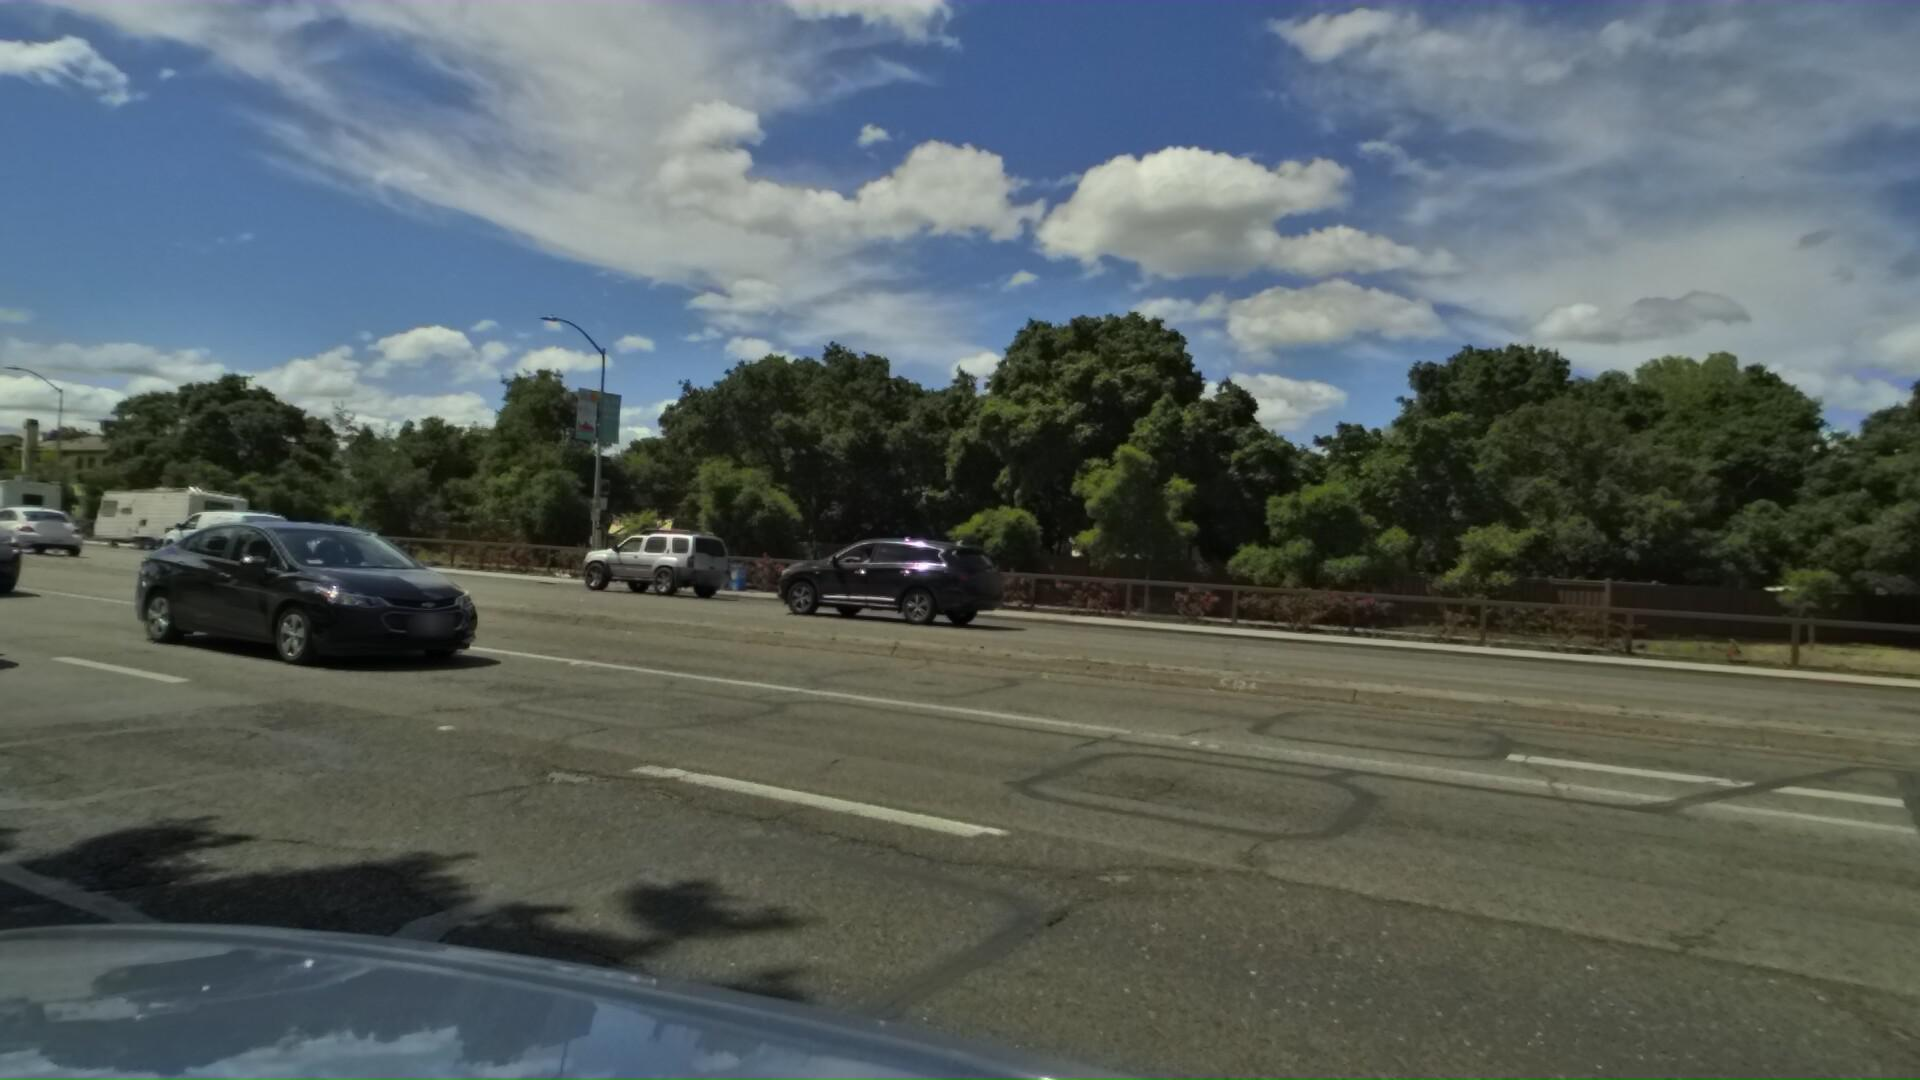bus: (86, 475, 258, 560), (0, 464, 76, 543)
car: (113, 506, 512, 676), (736, 522, 980, 626), (550, 521, 725, 597), (140, 498, 299, 568), (0, 454, 26, 692), (0, 498, 95, 559), (111, 516, 223, 560), (0, 473, 40, 596), (281, 524, 382, 568)
